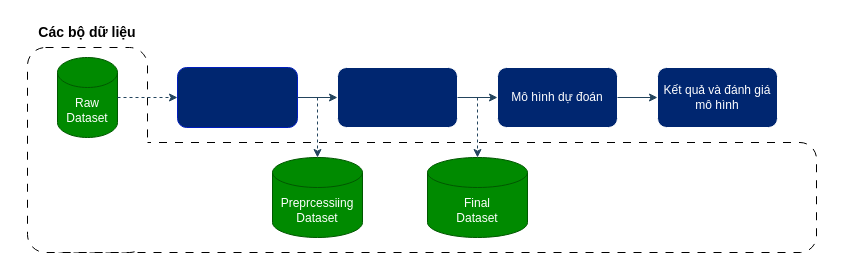
This 844x274 diagram has some shape labels left out. Each missing label, with the centre of its shape:
"Phân tích dữ liệu" belongs at (x=397, y=97).
"Tiền xử lý dữ liệu" belongs at (x=237, y=97).
